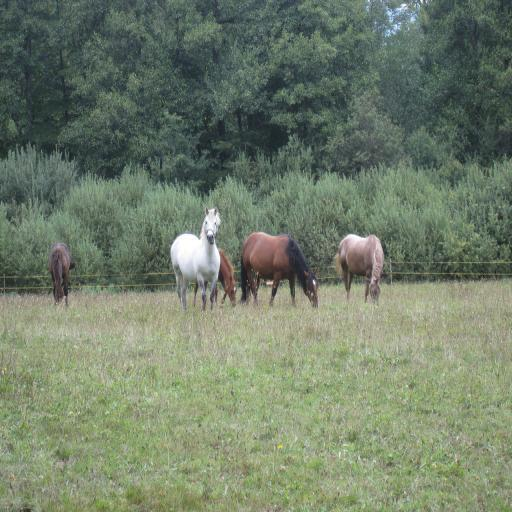horse: (241, 228, 323, 307), (170, 204, 222, 315), (331, 234, 383, 308), (190, 246, 238, 308), (46, 242, 75, 302)
